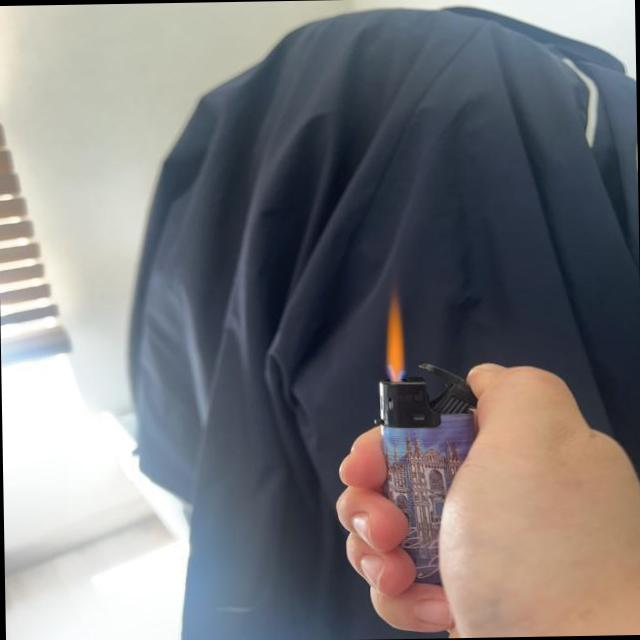Fire: (382, 293, 408, 376)
